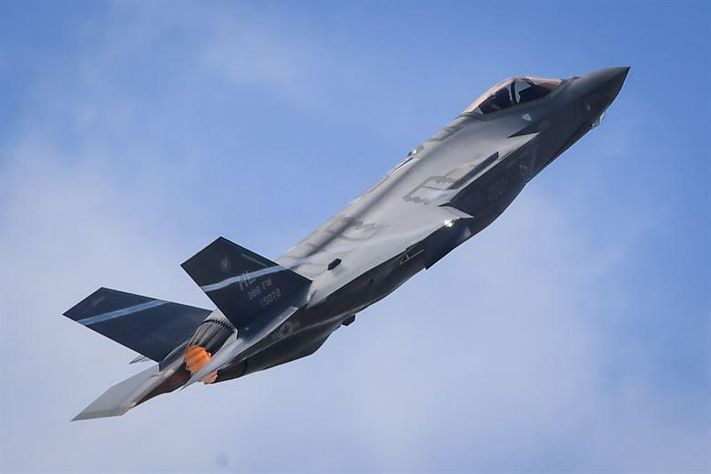F-35 Lightning: (57, 33, 627, 413)
